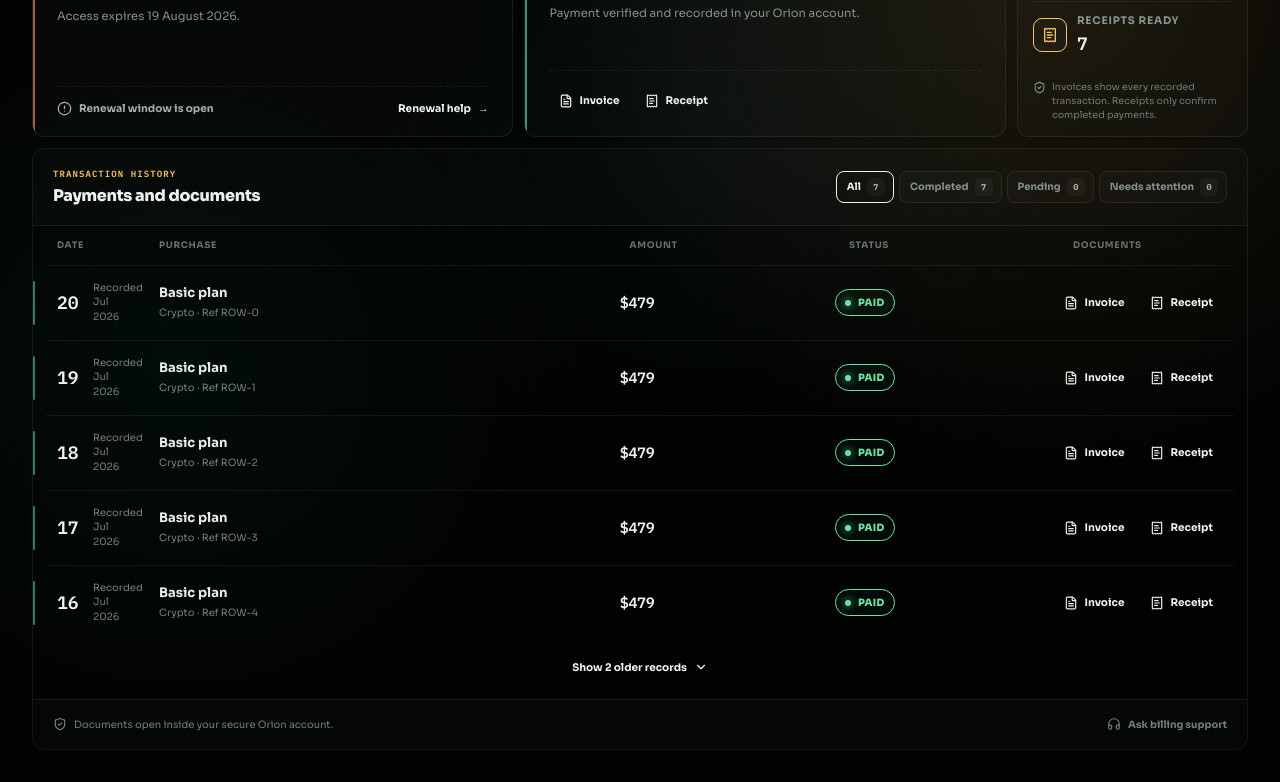
Test: Billing and Documents Center › keeps long histories compact until the client asks for older records
(page scrolled)
Check: the text "ROW-5" is not shown
Click the button "Show 2 older records" at (640, 667), box [559,648,721,687]
(page scrolled)
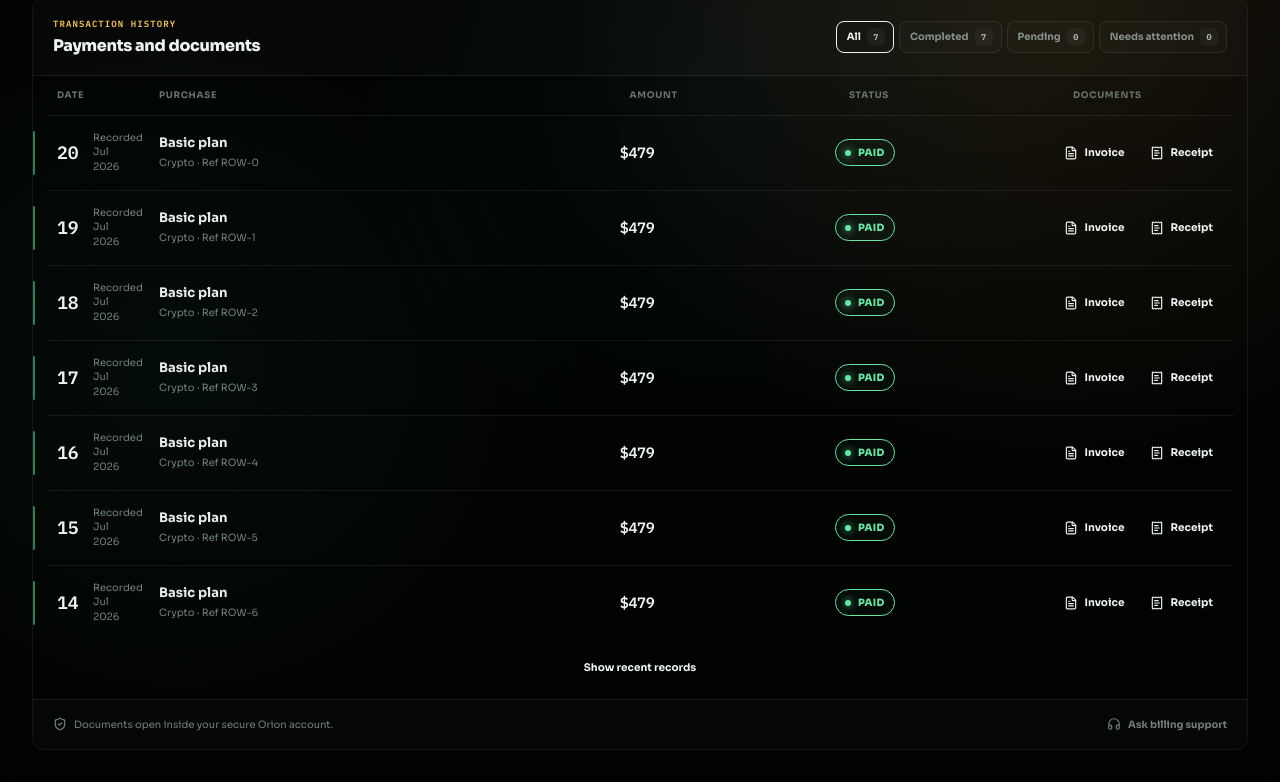
Check: the text "Crypto · Ref ROW-5" is shown, box [159,531,258,544]
Check: the text "Crypto · Ref ROW-6" is shown, box [159,606,258,619]
Check: the button "Show recent records" is expanded, box [571,648,709,687]
